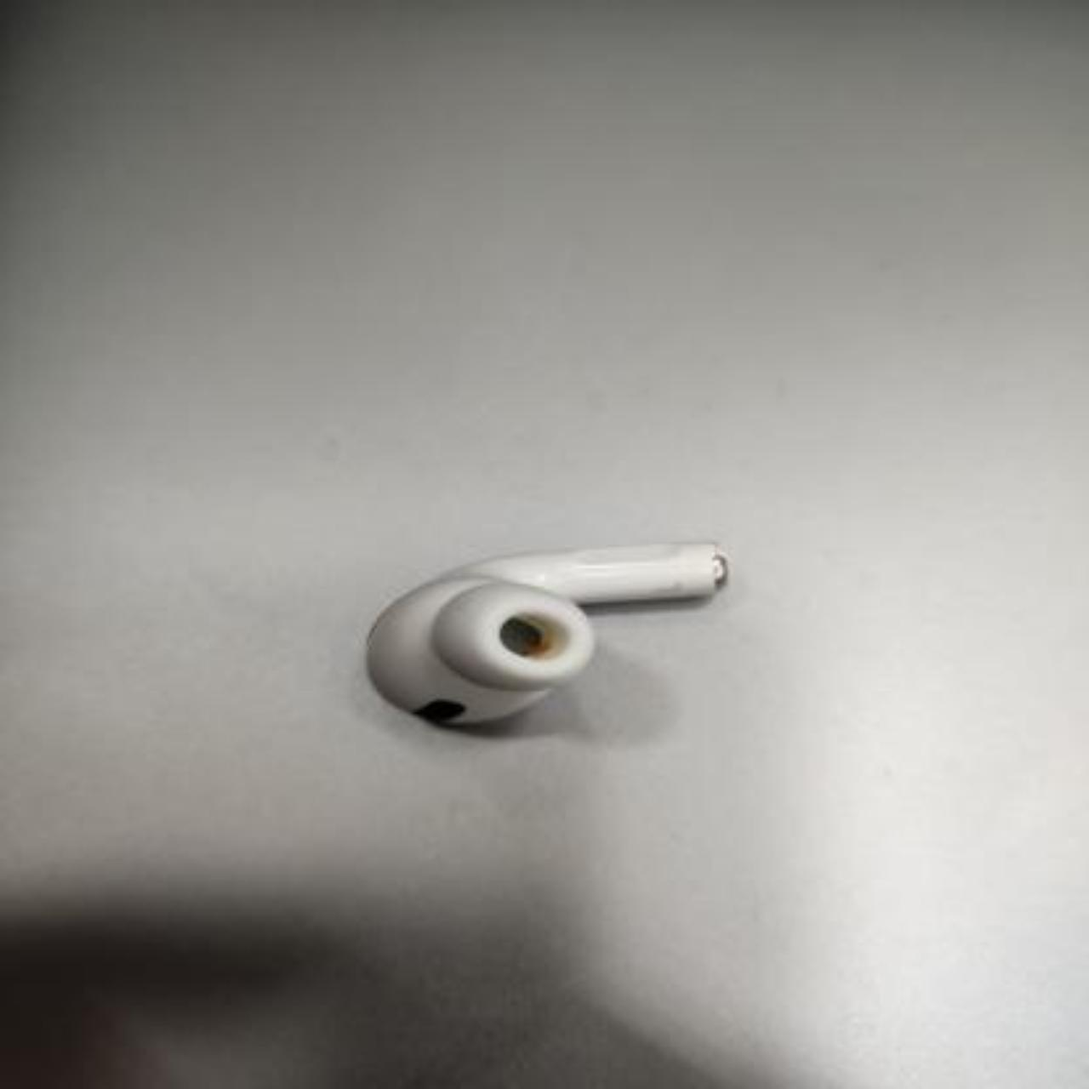Airpods_Units: (328, 512, 785, 742)
